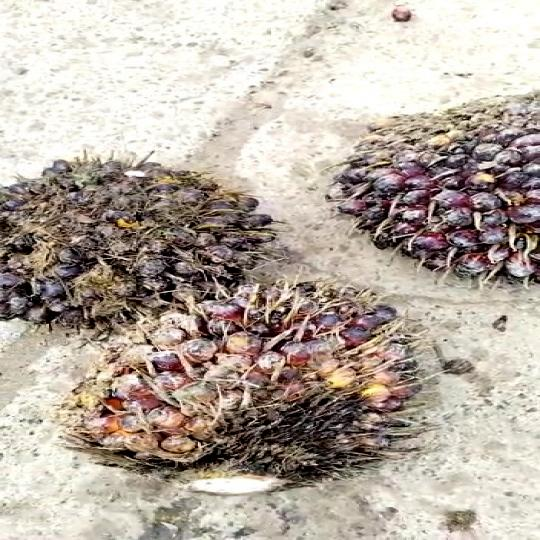kurang masak: (54, 283, 440, 512), (0, 136, 265, 340), (326, 104, 540, 298)
